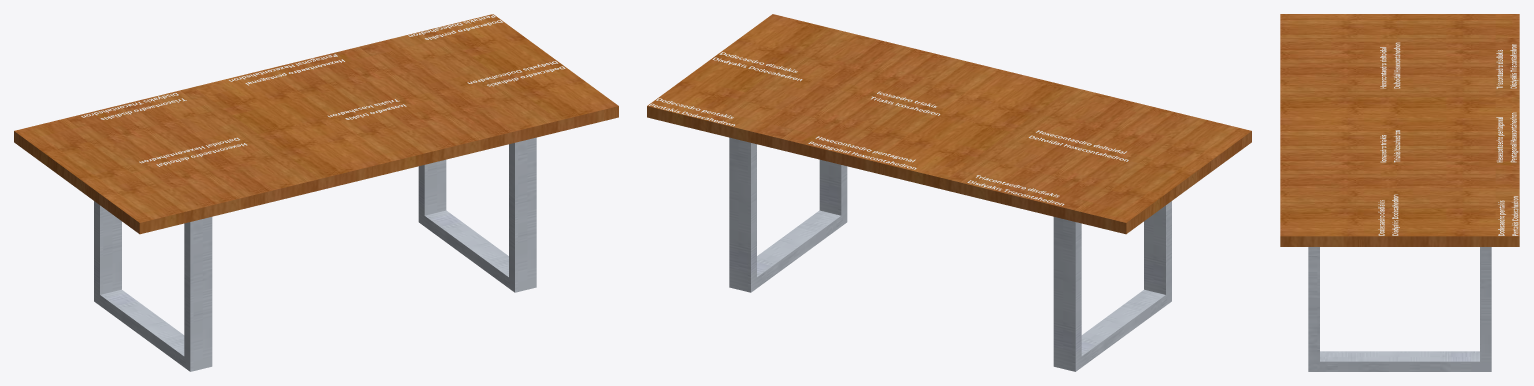
The model's file is mesa_Catalan2.glb.
3 views of the same model, side by side, from view 1: azimuth 30°, elevation 25°; view 2: azimuth 150°, elevation 25°; view 3: azimuth 270°, elevation 25° (orthographic). The views are drawn at different scales.
Parts seen in each view (by area): view 1: object 1, Composant#1 (×2), Hexecontaedro pe; view 2: object 1, Composant#1 (×2), Hexecontaedro pe; view 3: object 1, Composant#1, Hexecontaedro pe, Hexecontaedro de, Triacontaedro di, Dodecaedro disdi, Dodecaedro penta, Icosaedro triaki.
Part boxes in pixels (bbox=[...]): object 1: bbox=[14, 14, 618, 234]; Composant#1 (×2): bbox=[94, 137, 536, 371]; Hexecontaedro pe: bbox=[229, 54, 344, 85]; object 1: bbox=[647, 14, 1251, 234]; Composant#1 (×2): bbox=[729, 137, 1171, 371]; Hexecontaedro pe: bbox=[808, 136, 916, 169]; object 1: bbox=[1280, 14, 1519, 246]; Composant#1: bbox=[1308, 247, 1491, 371]; Hexecontaedro pe: bbox=[1496, 112, 1518, 162]; Hexecontaedro de: bbox=[1380, 42, 1400, 88]; Triacontaedro di: bbox=[1496, 44, 1518, 88]; Dodecaedro disdi: bbox=[1378, 194, 1399, 235]; Dodecaedro penta: bbox=[1498, 196, 1518, 235]; Icosaedro triaki: bbox=[1380, 130, 1400, 162].
Bounding box in the file's own units: 2.2 × 0.771 × 1.
3 materials, 2 textured.
